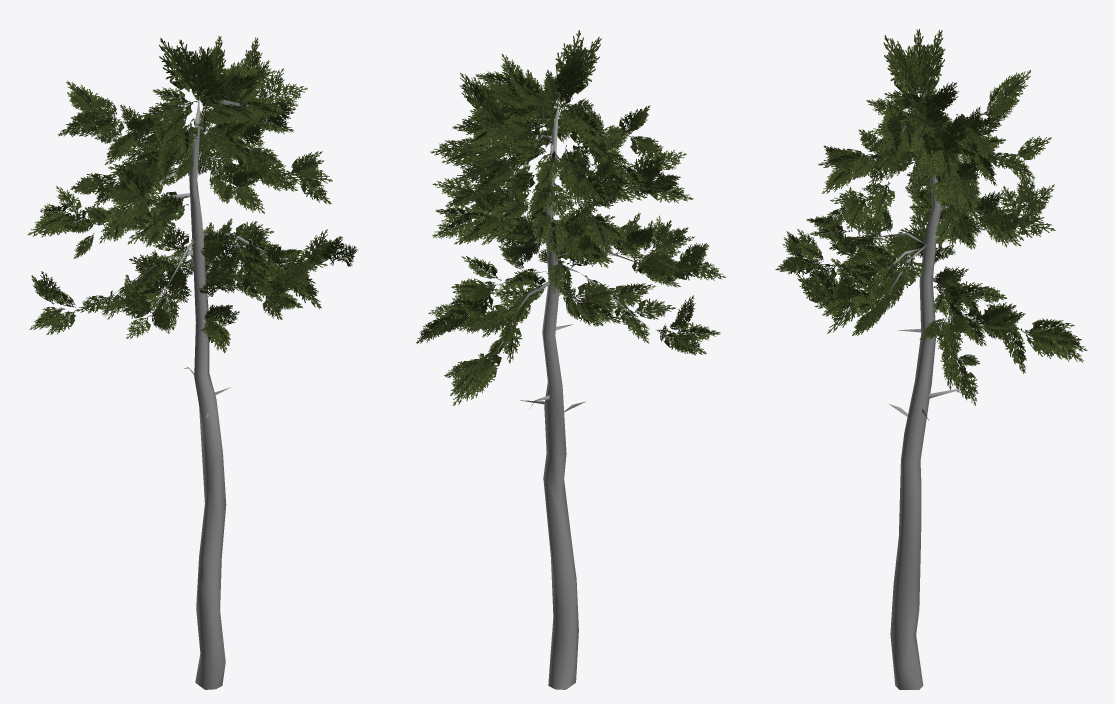
File: pine1 lod1.FBX
3 views of the same model, side by side, from view 1: azimuth 30°, elevation 25°; view 2: azimuth 150°, elevation 25°; view 3: azimuth 270°, elevation 25° (orthographic).
Parts seen in each view (by area): view 1: pine002_LOD1; view 2: pine002_LOD1; view 3: pine002_LOD1.
Boxes of the visible parts, <box> form: pine002_LOD1: <box>27,36,357,689</box>; pine002_LOD1: <box>416,30,725,689</box>; pine002_LOD1: <box>775,29,1087,689</box>.
Size of the model in its own units: 123763 by 259174 by 119641.
